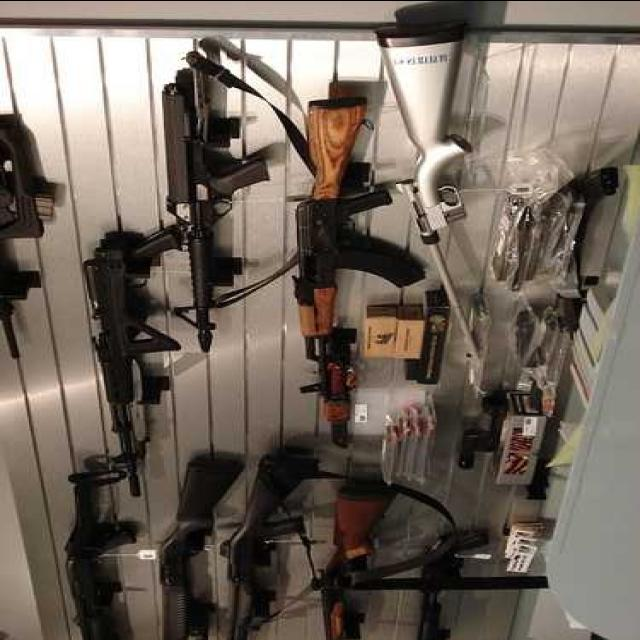heavyweapon: (267, 74, 421, 462), (375, 18, 520, 379), (148, 56, 268, 382), (78, 201, 190, 509), (32, 471, 152, 640), (216, 439, 315, 640), (149, 451, 243, 640), (314, 479, 371, 640)
